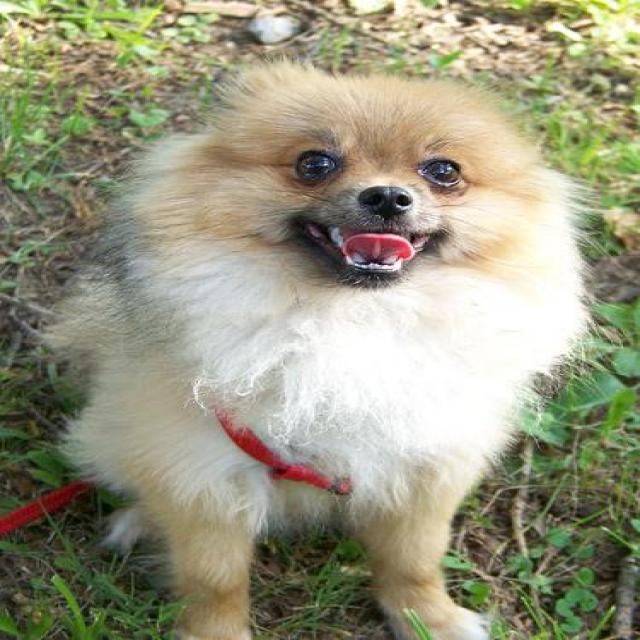sitting: (34, 50, 601, 640)
